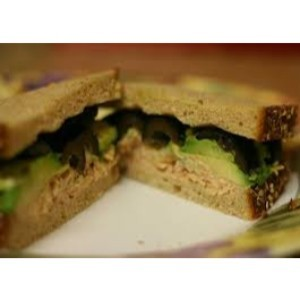tuna_brain food: (21, 99, 236, 219)
